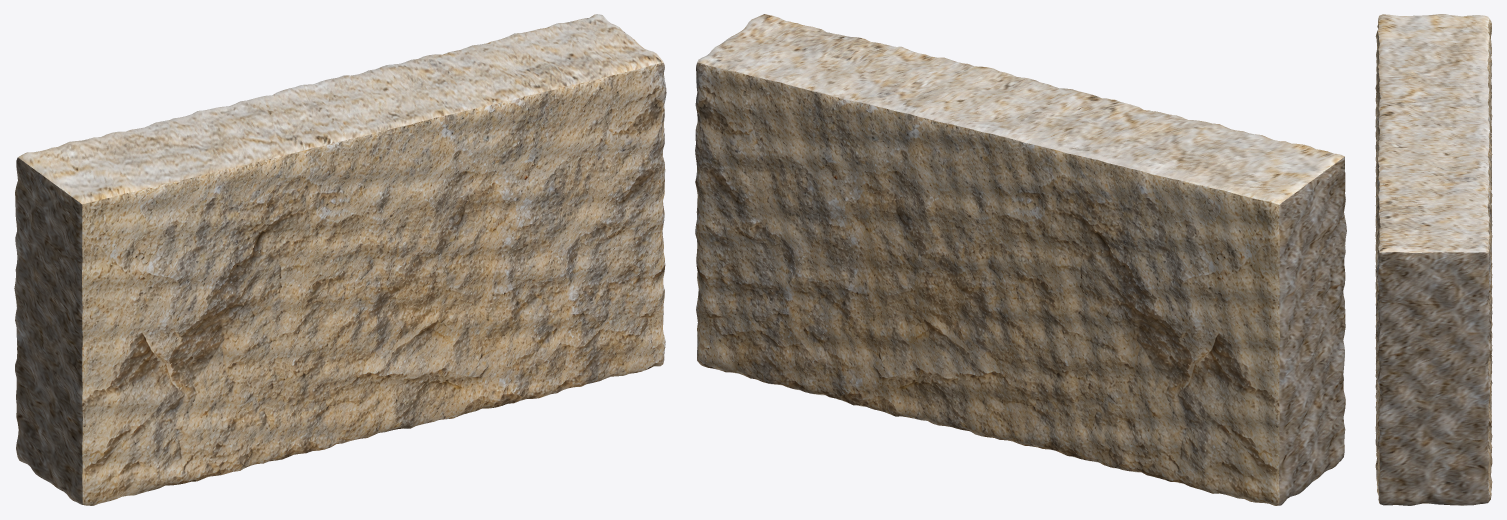
The model's file is rugged-limestone-masonry-block.glb.
The picture shows the model from 3 angles, left to right: view 1: azimuth 30°, elevation 25°; view 2: azimuth 150°, elevation 25°; view 3: azimuth 270°, elevation 25°; orthographic projection. The views are drawn at different scales.
Visible parts, largest first — view 1: Rugged limestone masonry block; view 2: Rugged limestone masonry block; view 3: Rugged limestone masonry block.
Part boxes in pixels (left/top/right/bottom): Rugged limestone masonry block: left=14, top=14, right=666, bottom=505; Rugged limestone masonry block: left=695, top=14, right=1346, bottom=505; Rugged limestone masonry block: left=1375, top=14, right=1492, bottom=505.
Bounding box in the file's own units: 0.605 × 0.3048 × 0.1247.
3 materials, 3 textured.
